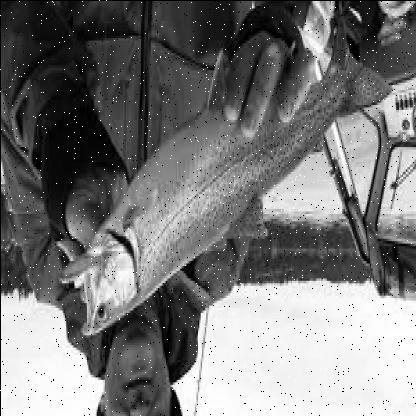fish: (66, 28, 396, 340)
